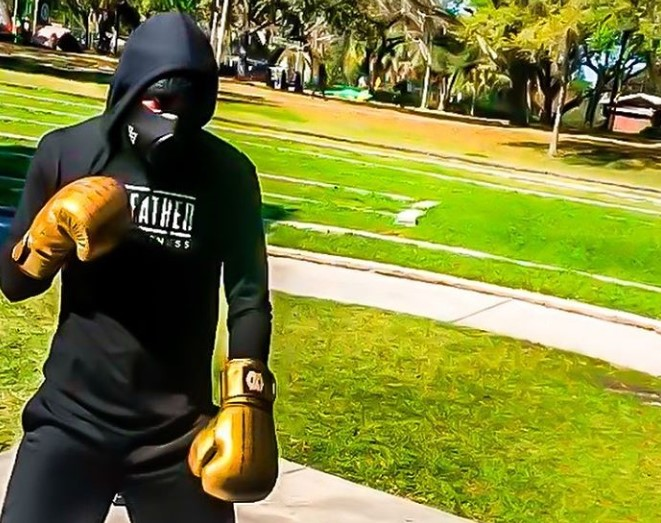face_with_mask: (111, 5, 219, 173)
